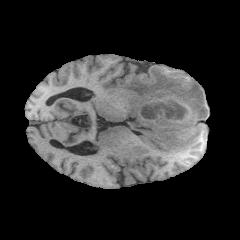glioma: (123, 68, 210, 153)
